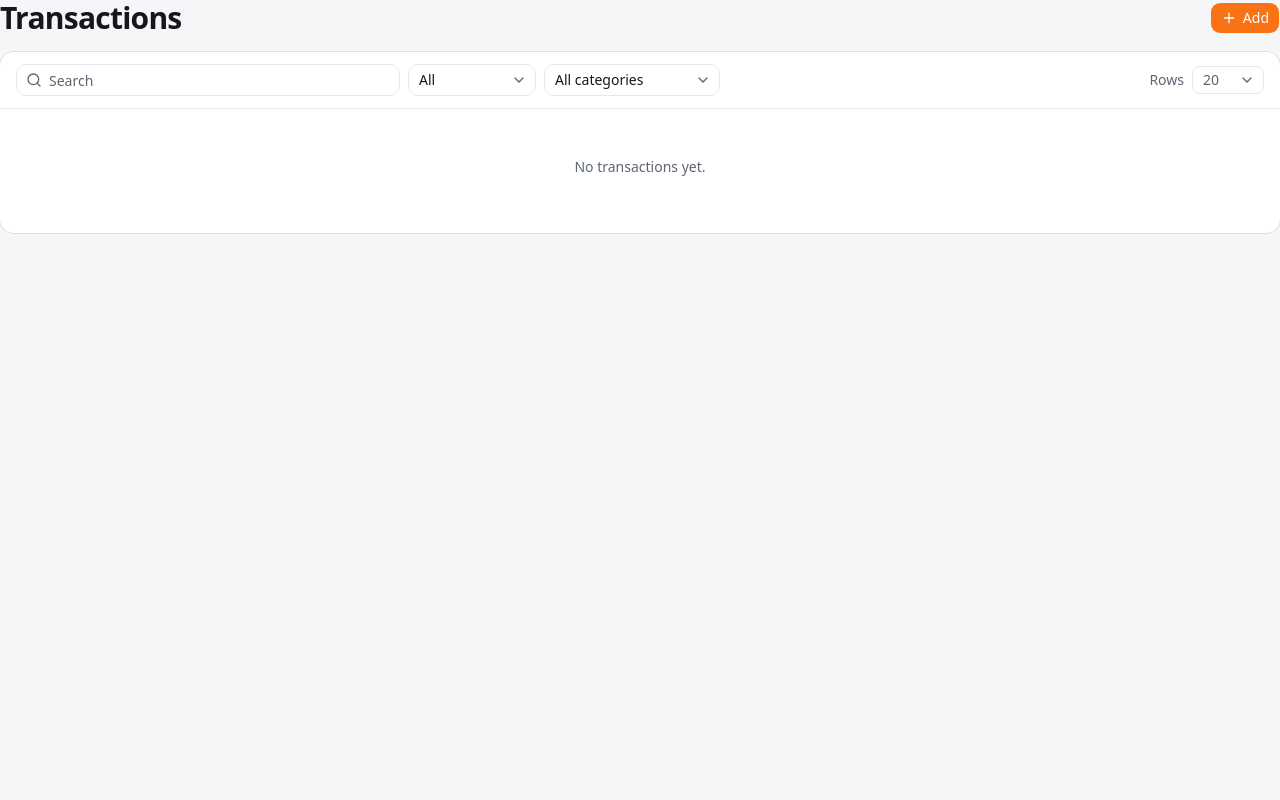
Test: transaction dialog categories › shows the most used first, seven plus More… when there are many
Check: the text "No transactions yet." is shown, box [574, 157, 706, 176]
Click the button "Add".
click(1245, 18)  # box [1210, 2, 1279, 34]
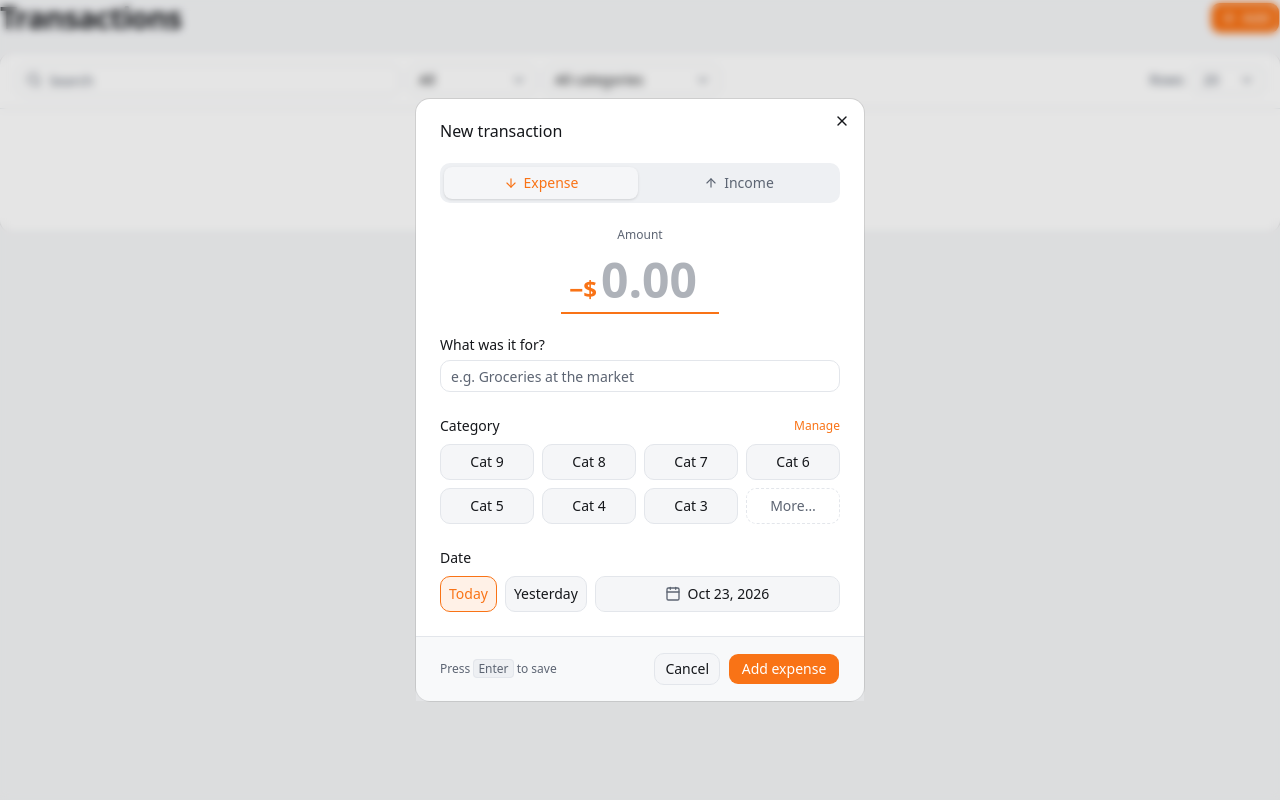
Check: the radio button labelled "Cat 9" is shown, box [440, 444, 534, 480]
Click the button "More…".
click(793, 506)  # box [746, 488, 840, 524]
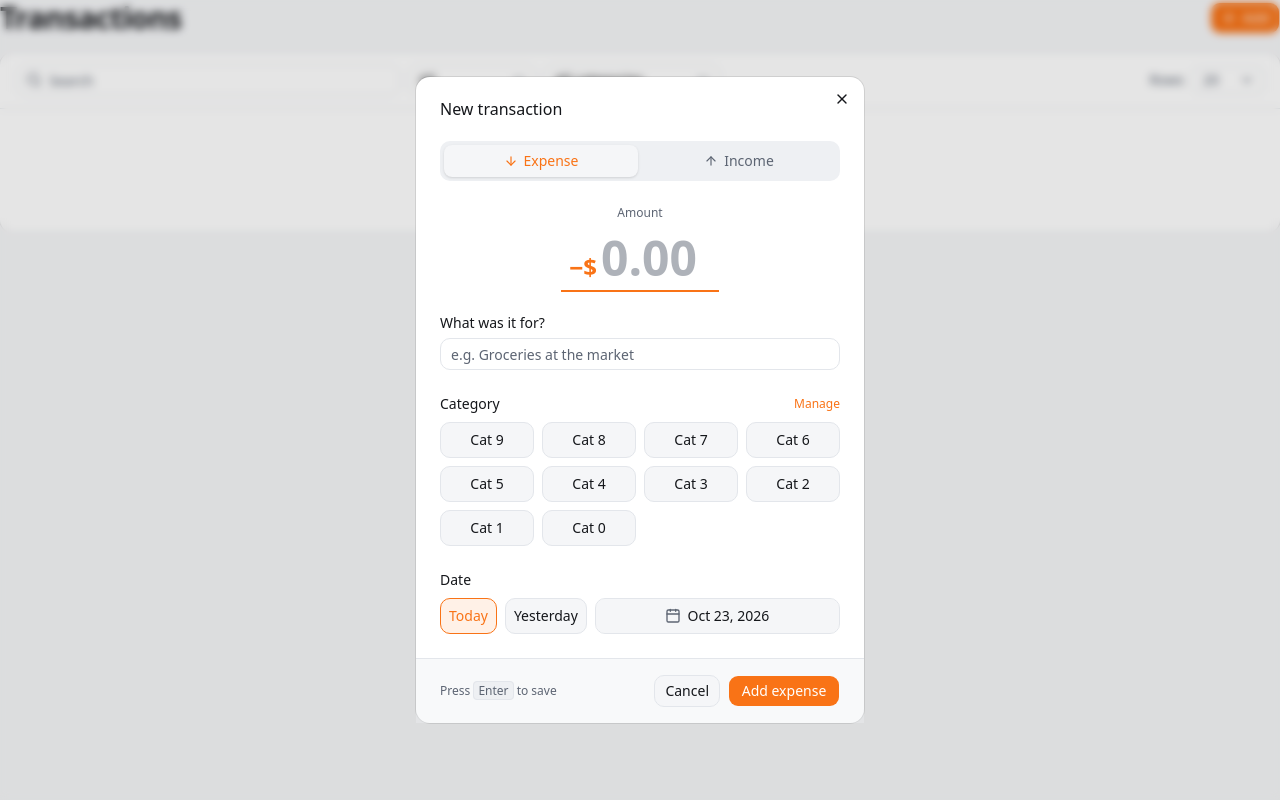
Check: the button "More…" is gone
